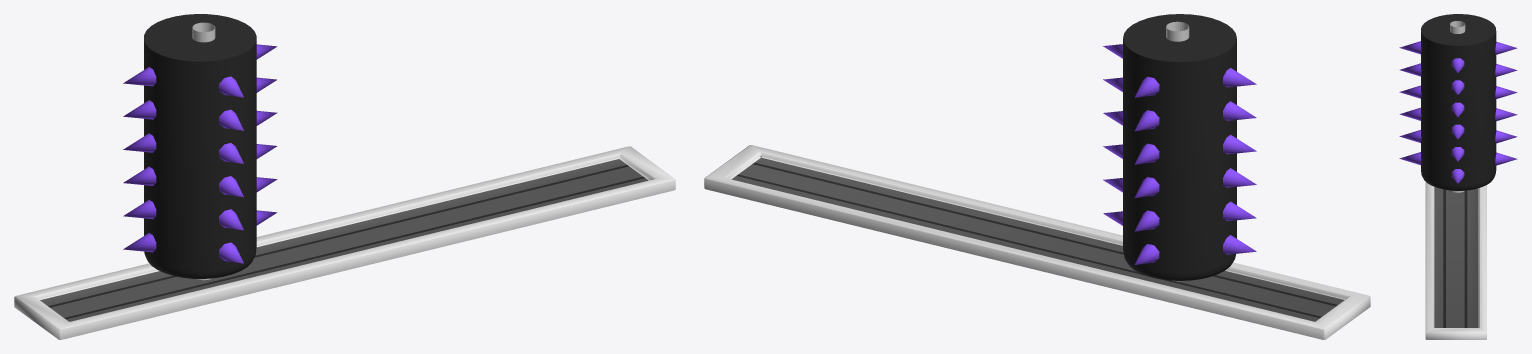
Rendered from cylender pilla verticalr circular.fbx.
3 views of the same model, side by side, from view 1: azimuth 30°, elevation 25°; view 2: azimuth 150°, elevation 25°; view 3: azimuth 270°, elevation 25° (orthographic). The views are drawn at different scales.
Visible parts, largest first — view 1: SpikeBase, CylinderObstacle.001; view 2: SpikeBase, CylinderObstacle.001; view 3: CylinderObstacle.001, SpikeBase, CylinderObstacle.002.
Boxes of the visible parts, left/top/right/bottom form: SpikeBase: left=14, top=146, right=675, bottom=339; CylinderObstacle.001: left=123, top=14, right=277, bottom=278; SpikeBase: left=704, top=145, right=1370, bottom=339; CylinderObstacle.001: left=1103, top=14, right=1256, bottom=280; CylinderObstacle.001: left=1399, top=14, right=1517, bottom=190; SpikeBase: left=1425, top=182, right=1486, bottom=339; CylinderObstacle.002: left=1450, top=21, right=1465, bottom=192.
Bounding box in the file's own units: 803 × 322 × 201.
